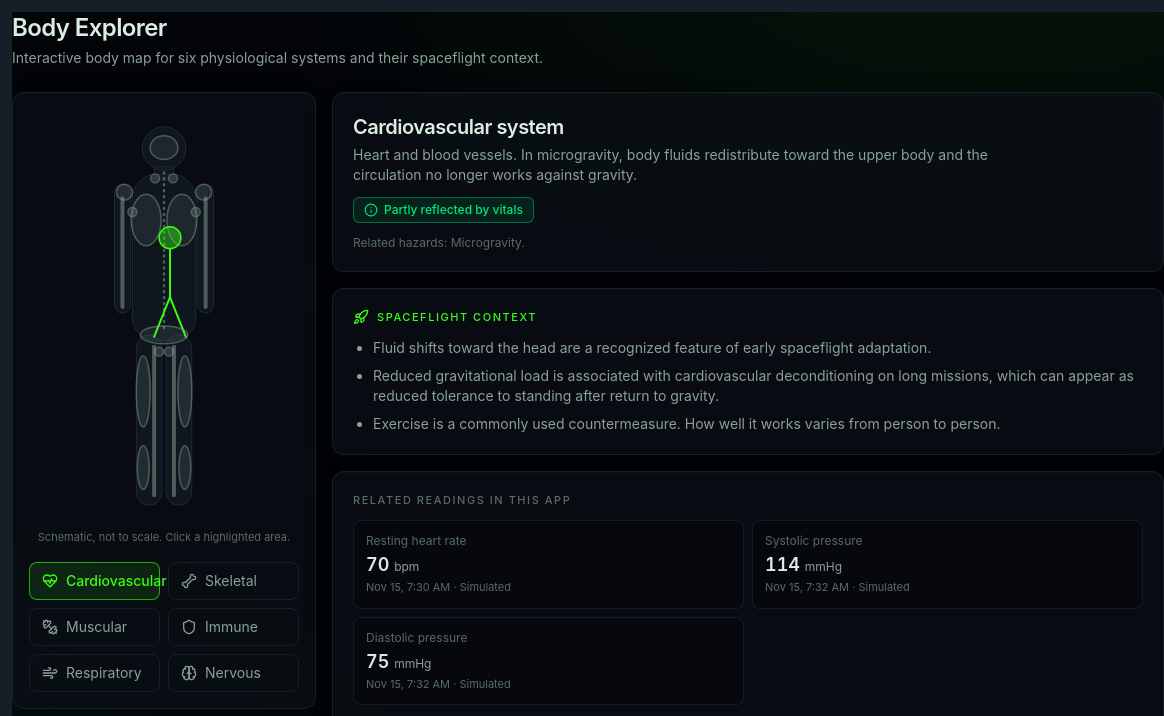
Test: Body Explorer › switches system from the keyboard-accessible list
This screenshot has width=1164, height=716.
Click the button "Skeletal" at [234, 580], box left=168, top=562, right=299, bottom=600
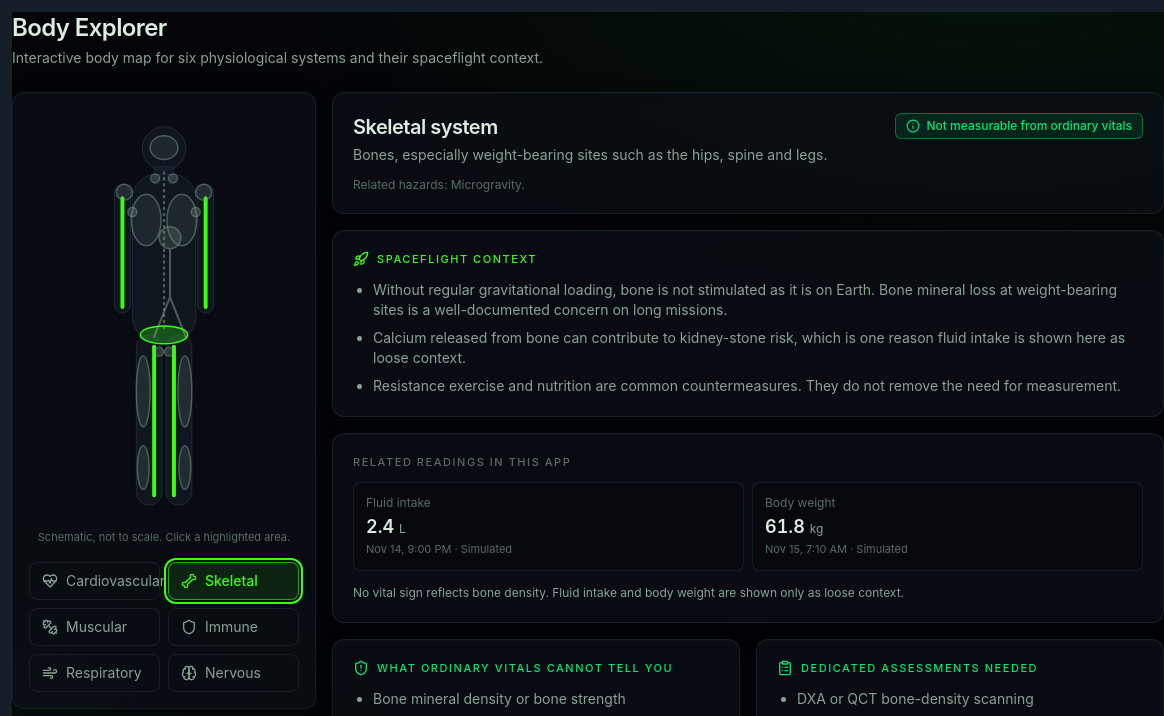
Now the heading "Skeletal system" is shown, box left=353, top=115, right=498, bottom=139
Now the text "Not measurable from ordinary vitals" is shown, box left=896, top=113, right=1143, bottom=139
